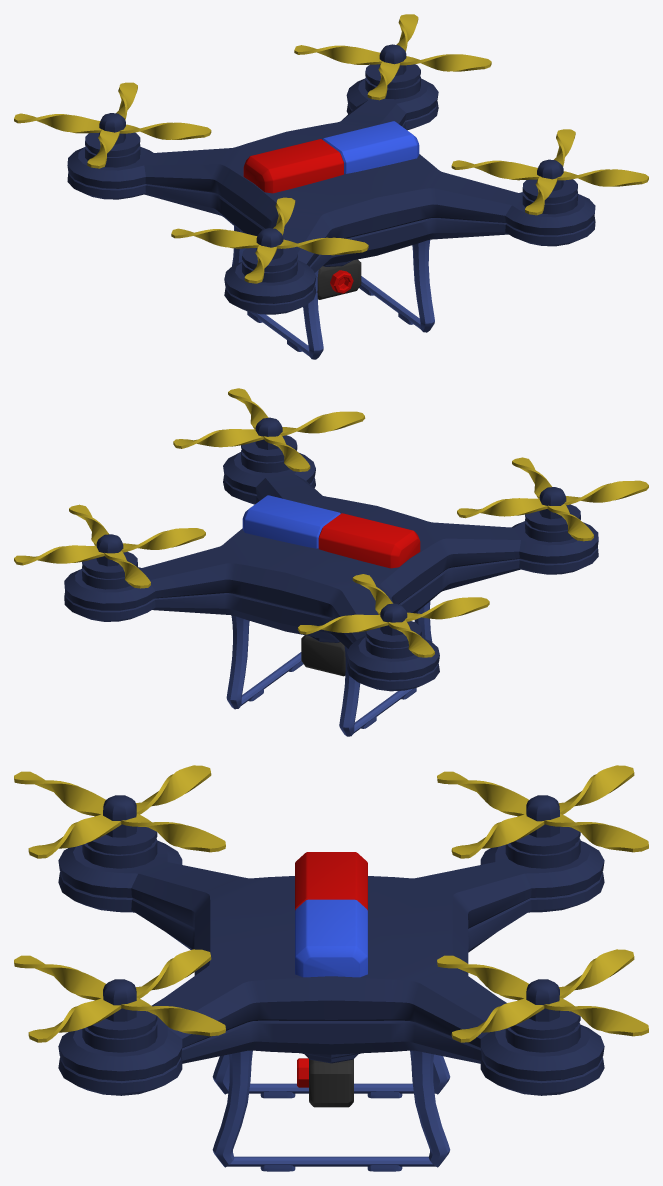
File: drone.fbx
3 renders of one model, top to bottom at view 1: azimuth 30°, elevation 25°; view 2: azimuth 150°, elevation 25°; view 3: azimuth 270°, elevation 25°, orthographic. The views are drawn at different scales.
Parts seen in each view (by area): view 1: Cube.018, Plane.069, Plane.070, Plane.071, Plane.074; view 2: Cube.018, Plane.074, Plane.071, Plane.069, Plane.070; view 3: Cube.018, Plane.074, Plane.069, Plane.071, Plane.070.
Boxes of the visible parts, <box> form: Cube.018: <box>67,44,595,359</box>; Plane.069: <box>171,197,368,283</box>; Plane.070: <box>294,14,491,100</box>; Plane.071: <box>14,82,211,168</box>; Plane.074: <box>451,129,648,215</box>; Cube.018: <box>64,417,598,736</box>; Plane.074: <box>173,388,365,471</box>; Plane.071: <box>297,574,489,657</box>; Plane.069: <box>457,457,648,541</box>; Plane.070: <box>14,504,205,588</box>; Cube.018: <box>58,795,604,1171</box>; Plane.074: <box>14,949,225,1042</box>; Plane.069: <box>14,765,225,858</box>; Plane.071: <box>437,765,648,858</box>; Plane.070: <box>437,949,648,1042</box>.
Size of the model in its own units: 1.21 by 0.4994 by 1.18.
